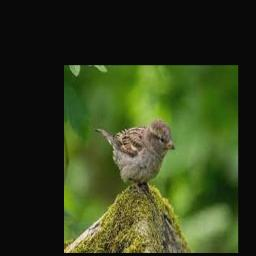Sparrow: (95, 117, 176, 193)
